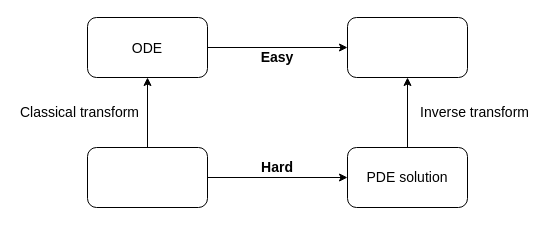
Some shapes in this 554 by 225 pixel diagram are drawn without their labels. Here are the shapes that lost their labels. From the top down, the box of each, then its label:
(346, 16, 468, 78): ODE solution
(86, 146, 208, 208): PDE
